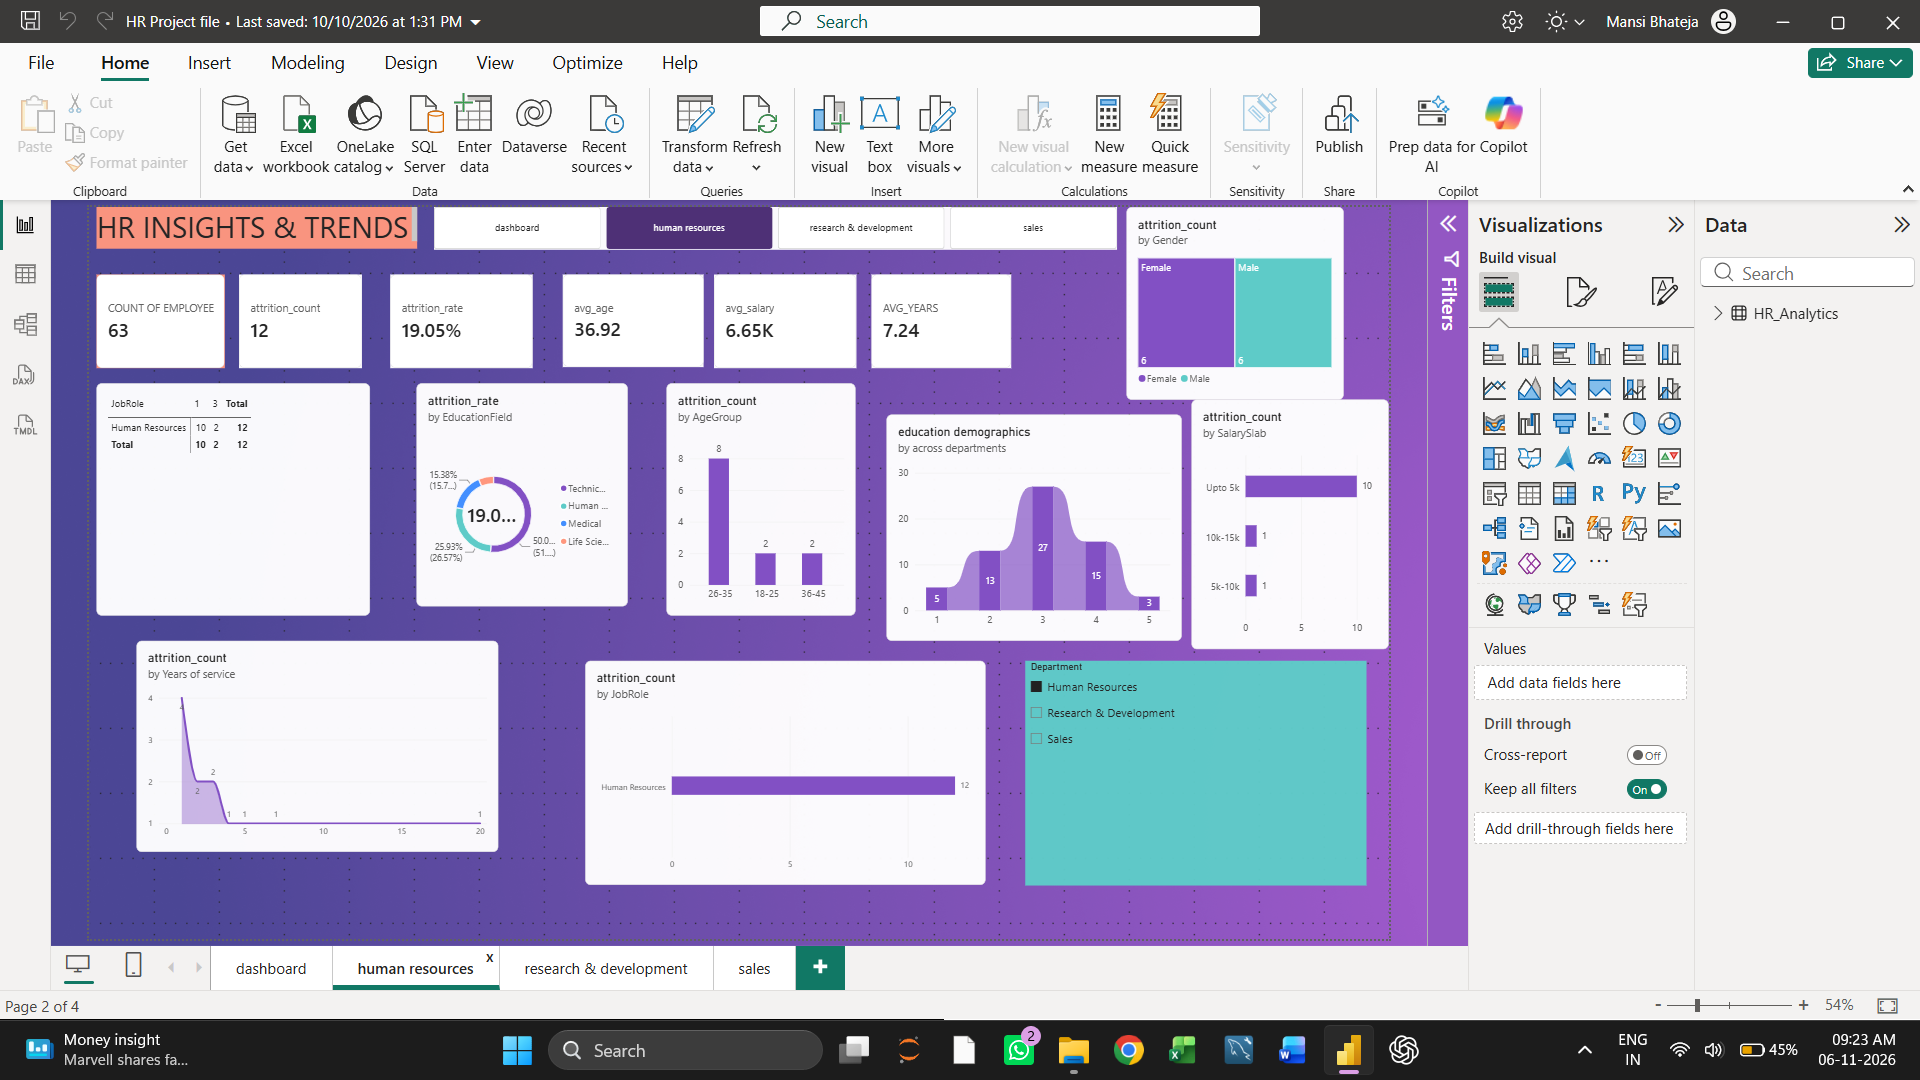

Layout of this report page (visuals, bound fields, positions):
{"tool":"powerbi","page":{"name":"human resources","canvas":[1920,1080],"ordinal":1},"visuals":[{"type":"pageNavigator","box":[509.5,0,1008.6,62.9],"z":0},{"type":"treemap","fields":{"Details":["HR_Analytics.Gender"],"Values":["HR_Analytics.attrition_count"]},"box":[1532.3,0,320.7,284.5],"z":1},{"type":"textbox","box":[10.2,0,473.5,61.2],"z":2},{"type":"cardVisual","fields":{"Data":["Sum(HR_Analytics.EmployeeCount)"]},"box":[10.2,100,189.8,138.8],"z":3},{"type":"cardVisual","fields":{"Data":["HR_Analytics.attrition_count"]},"box":[222.4,100,181.6,138.8],"z":4},{"type":"cardVisual","fields":{"Data":["HR_Analytics.attrition_rate"]},"box":[444.9,100,210.2,138.8],"z":5},{"type":"cardVisual","fields":{"Data":["Avg(HR_Analytics.avg_age)"]},"box":[700,100,208.2,136.7],"z":6},{"type":"cardVisual","fields":{"Data":["HR_Analytics.avg_salary"]},"box":[922.4,100,210.2,138.8],"z":7},{"type":"cardVisual","fields":{"Data":["HR_Analytics.AVG_YEARS"]},"box":[1155.1,100,206.1,138.8],"z":8},{"type":"pivotTable","fields":{"Columns":["HR_Analytics.JobLevel"],"Rows":["HR_Analytics.JobRole"],"Values":["HR_Analytics.attrition_count"]},"box":[10.3,260.3,404.1,342.9],"z":9},{"type":"donutChart","fields":{"Category":["HR_Analytics.EducationField"],"Y":["HR_Analytics.attrition_rate"]},"box":[484.5,260.3,312.1,329.3],"z":10},{"type":"columnChart","fields":{"Category":["HR_Analytics.AgeGroup"],"Y":["HR_Analytics.attrition_count"]},"box":[853.4,260.3,279.3,343.1],"z":11},{"type":"ribbonChart","fields":{"Category":["HR_Analytics.Education"],"Y":["CountNonNull(HR_Analytics.Department)"]},"box":[1177.6,306.9,436.2,334.5],"z":12},{"type":"barChart","fields":{"Category":["HR_Analytics.SalarySlab"],"Y":["HR_Analytics.attrition_count"]},"box":[1628.6,284.5,291.4,369],"z":13},{"type":"areaChart","fields":{"Category":["HR_Analytics.YearsAtCompany"],"Y":["HR_Analytics.attrition_count"]},"box":[70.7,641.4,534.5,312.1],"z":14},{"type":"clusteredBarChart","fields":{"Category":["HR_Analytics.JobRole"],"Y":["HR_Analytics.attrition_count"]},"box":[732,670,591.4,331],"z":15},{"type":"slicer","fields":{"Values":["HR_Analytics.Department"]},"box":[1382,670,504,332],"z":16}]}

Visuals, with their boxes on the page's 1920x1080 design canvas (x1, y1, x2, y2). These are canvas units, not pixel positions in the 1920x1080 screenshot, which may show the page scaled, cropped or inside an application window:
pageNavigator: {"left": 510, "top": 0, "right": 1518, "bottom": 63}
treemap - HR_Analytics.Gender x HR_Analytics.attrition_count: {"left": 1532, "top": 0, "right": 1853, "bottom": 284}
textbox: {"left": 10, "top": 0, "right": 484, "bottom": 61}
cardVisual - Sum(HR_Analytics.EmployeeCount): {"left": 10, "top": 100, "right": 200, "bottom": 239}
cardVisual - HR_Analytics.attrition_count: {"left": 222, "top": 100, "right": 404, "bottom": 239}
cardVisual - HR_Analytics.attrition_rate: {"left": 445, "top": 100, "right": 655, "bottom": 239}
cardVisual - Avg(HR_Analytics.avg_age): {"left": 700, "top": 100, "right": 908, "bottom": 237}
cardVisual - HR_Analytics.avg_salary: {"left": 922, "top": 100, "right": 1133, "bottom": 239}
cardVisual - HR_Analytics.AVG_YEARS: {"left": 1155, "top": 100, "right": 1361, "bottom": 239}
pivotTable - HR_Analytics.JobLevel x HR_Analytics.JobRole: {"left": 10, "top": 260, "right": 414, "bottom": 603}
donutChart - HR_Analytics.EducationField x HR_Analytics.attrition_rate: {"left": 484, "top": 260, "right": 797, "bottom": 590}
columnChart - HR_Analytics.AgeGroup x HR_Analytics.attrition_count: {"left": 853, "top": 260, "right": 1133, "bottom": 603}
ribbonChart - HR_Analytics.Education x CountNonNull(HR_Analytics.Department): {"left": 1178, "top": 307, "right": 1614, "bottom": 641}
barChart - HR_Analytics.SalarySlab x HR_Analytics.attrition_count: {"left": 1629, "top": 284, "right": 1920, "bottom": 654}
areaChart - HR_Analytics.YearsAtCompany x HR_Analytics.attrition_count: {"left": 71, "top": 641, "right": 605, "bottom": 954}
clusteredBarChart - HR_Analytics.JobRole x HR_Analytics.attrition_count: {"left": 732, "top": 670, "right": 1323, "bottom": 1001}
slicer - HR_Analytics.Department: {"left": 1382, "top": 670, "right": 1886, "bottom": 1002}
